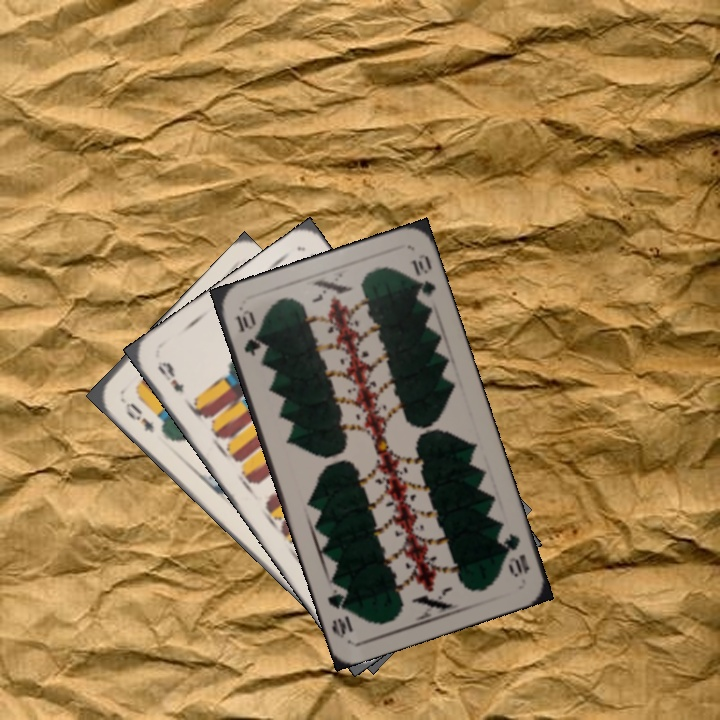E9: (153, 357, 187, 395)
EO: (117, 394, 157, 436)
G10: (497, 529, 532, 580), (231, 305, 264, 359)
